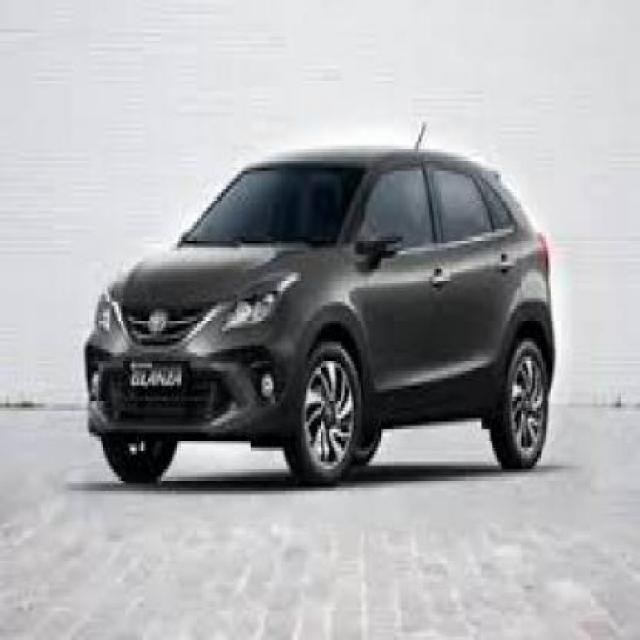vehicle: (73, 103, 566, 507)
